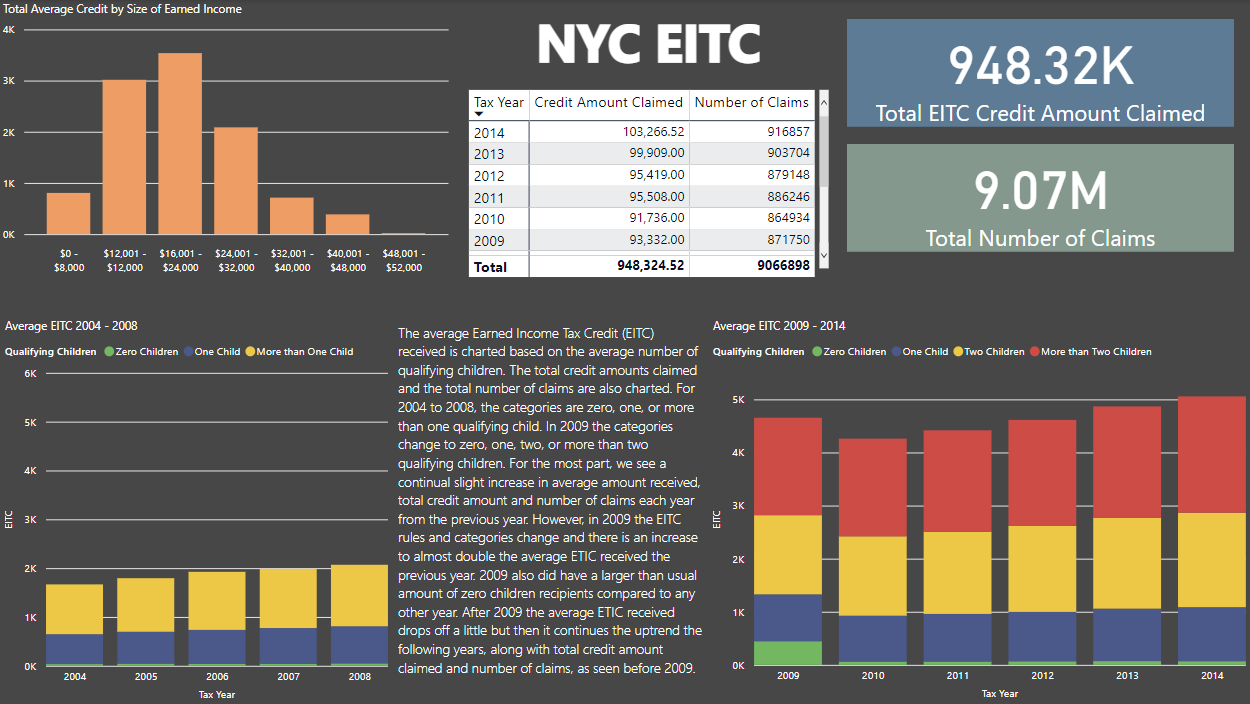

Layout of this report page (visuals, bound fields, positions):
{"tool":"powerbi","page":{"name":"NYC EITC","canvas":[1280,720],"ordinal":0},"visuals":[{"type":"lineStackedColumnComboChart","title":"Average EITC 2009 - 2014","fields":{"Category":["Earned_Income_Tax_Credit__New_York_City_EITC__Claims__Full-Year_Resident_Totals_.Tax Year"],"Y":["Sum(Earned_Income_Tax_Credit__New_York_City_EITC__Claims__Full-Year_Resident_Totals_.Average Credit, Zero Qualifying Chi","Sum(Earned_Income_Tax_Credit__New_York_City_EITC__Claims__Full-Year_Resident_Totals_.Average Credit, One Qualifying Chil","Sum(Earned_Income_Tax_Credit__New_York_City_EITC__Claims__Full-Year_Resident_Totals_.Average Credit, Two Qualifying Chil","Sum(Earned_Income_Tax_Credit__New_York_City_EITC__Claims__Full-Year_Resident_Totals_.Average Credit, More than Two Quali"]},"box":[724.5,323.8,553.6,396.2],"z":0},{"type":"lineStackedColumnComboChart","title":"Average EITC 2004 - 2008","fields":{"Y":["Sum(Earned_Income_Tax_Credit__New_York_City_EITC__Claims__Full-Year_Resident_Totals_.Average Credit, Zero Qualifying Chi","Sum(Earned_Income_Tax_Credit__New_York_City_EITC__Claims__Full-Year_Resident_Totals_.Average Credit, One Qualifying Chil","Sum(Earned_Income_Tax_Credit__New_York_City_EITC__Claims__Full-Year_Resident_Totals_.Average Credit, More than One Quali"],"Category":["Earned_Income_Tax_Credit__New_York_City_EITC__Claims__Full-Year_Resident_Totals_.Tax Year"]},"box":[1.8,323.2,401.2,396.8],"z":1000},{"type":"pivotTable","title":"Total Credit Amount Claimed by Tax Year","fields":{"Rows":["Earned_Income_Tax_Credit__New_York_City_EITC__Claims__Full-Year_Resident_Totals_.Tax Year"],"Values":["Sum(Earned_Income_Tax_Credit__New_York_City_EITC__Claims__Full-Year_Resident_Totals_.Credit Amount Claimed, Total ($000)","Sum(Earned_Income_Tax_Credit__New_York_City_EITC__Claims__Full-Year_Resident_Totals_.Number of Claims, Total)"]},"box":[475.7,86.8,376.7,201.1],"z":3000},{"type":"textbox","box":[403,324.1,321.5,395.9],"z":4000},{"type":"card","fields":{"Values":["Sum(Earned_Income_Tax_Credit__New_York_City_EITC__Claims__Full-Year_Resident_Totals_.Credit Amount Claimed, Total ($000)"]},"box":[866.6,19.4,395,110.2],"z":5000},{"type":"card","fields":{"Values":["Sum(Earned_Income_Tax_Credit__New_York_City_EITC__Claims__Full-Year_Resident_Totals_.Number of Claims, Total)"]},"box":[866.6,147,395,110.2],"z":6000},{"type":"textbox","box":[475.7,0,376.7,83.7],"z":7000},{"type":"lineStackedColumnComboChart","title":"Total Average Credit by Size of Earned Income","fields":{"Category":["Earned_Income_Tax_Credit__New_York_City_EITC__Claims__Full-Year_Resident_Totals_.Size of Earned Income (groups)"],"Y":["Sum(Earned_Income_Tax_Credit__New_York_City_EITC__Claims__Full-Year_Resident_Totals_.Average Credit, Total)"]},"box":[0,0,465.5,287.8],"z":8000}]}

Visuals, with their boxes in screenshot pixels (x1, y1, x2, y2), scaled from the page's 1280x720 canvas onto the 1250x704 screenshot:
"Average EITC 2009 - 2014" lineStackedColumnComboChart: x1=708 y1=317 x2=1248 y2=703
"Average EITC 2004 - 2008" lineStackedColumnComboChart: x1=2 y1=316 x2=394 y2=703
"Total Credit Amount Claimed by Tax Year" pivotTable: x1=465 y1=85 x2=832 y2=282
textbox: x1=394 y1=317 x2=708 y2=703
card - Sum(Earned_Income_Tax_Credit__New_York_City_EITC__Claims__Full-Year_Resident_Totals_.Credit Amount Claimed, Total ($000): x1=846 y1=19 x2=1232 y2=127
card - Sum(Earned_Income_Tax_Credit__New_York_City_EITC__Claims__Full-Year_Resident_Totals_.Number of Claims, Total): x1=846 y1=144 x2=1232 y2=251
textbox: x1=465 y1=0 x2=832 y2=82
"Total Average Credit by Size of Earned Income" lineStackedColumnComboChart: x1=0 y1=0 x2=455 y2=281
